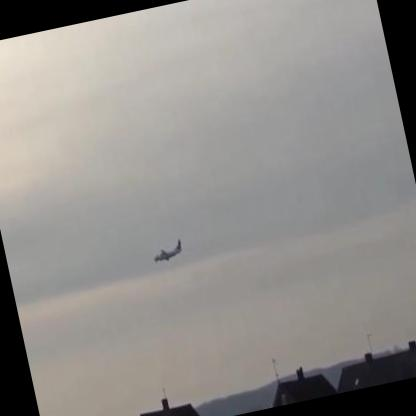plane: (151, 238, 185, 266)
